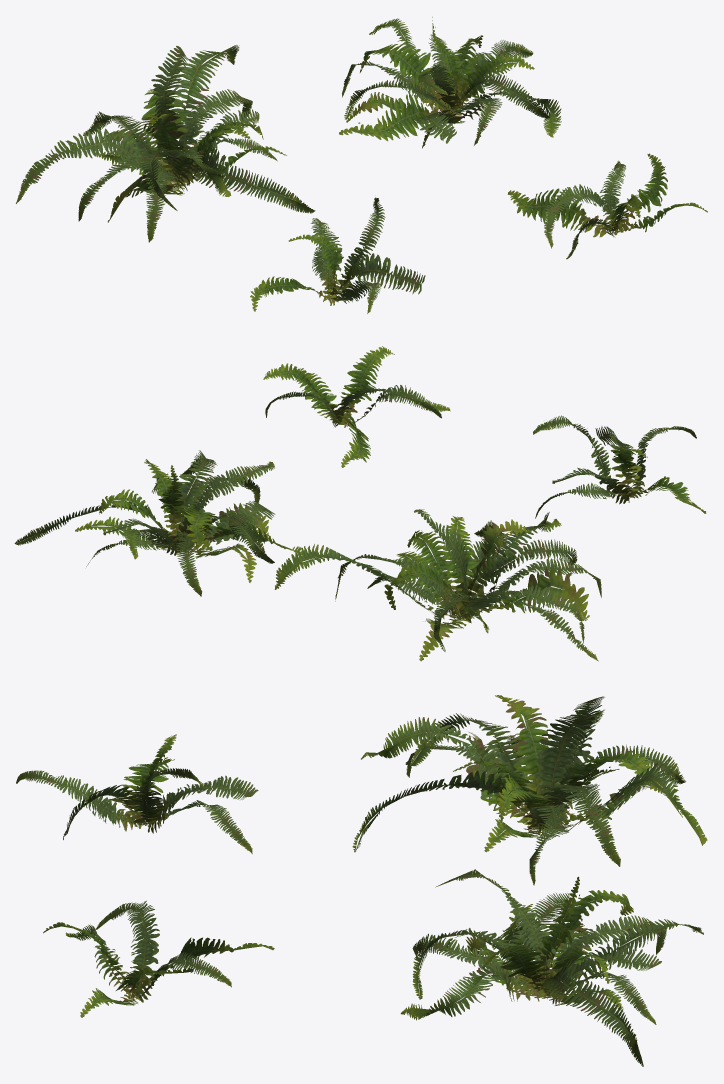
File: fern_02.glb
The picture shows the model from 3 angles, top to bottom: view 1: azimuth 30°, elevation 25°; view 2: azimuth 150°, elevation 25°; view 3: azimuth 270°, elevation 25°; orthographic projection. The views are drawn at different scales.
Parts seen in each view (by area): view 1: fern_02_b, fern_02_c, fern_02_a, fern_02_d; view 2: fern_02_b, fern_02_c, fern_02_d, fern_02_a; view 3: fern_02_b, fern_02_c, fern_02_a, fern_02_d.
Boxes of the visible parts, x1,y1,x2,y2 form: fern_02_b: (16,45,315,242); fern_02_c: (339,17,561,148); fern_02_a: (250,197,425,313); fern_02_d: (507,153,707,259); fern_02_b: (274,509,601,661); fern_02_c: (14,450,301,596); fern_02_d: (263,346,450,467); fern_02_a: (533,415,706,518); fern_02_b: (352,695,707,885); fern_02_c: (400,869,703,1066); fern_02_a: (16,734,258,854); fern_02_d: (43,900,274,1017).
Size of the model in its own units: 1.97 by 0.4261 by 1.72.
Materials: 1 (1 with a texture image).
